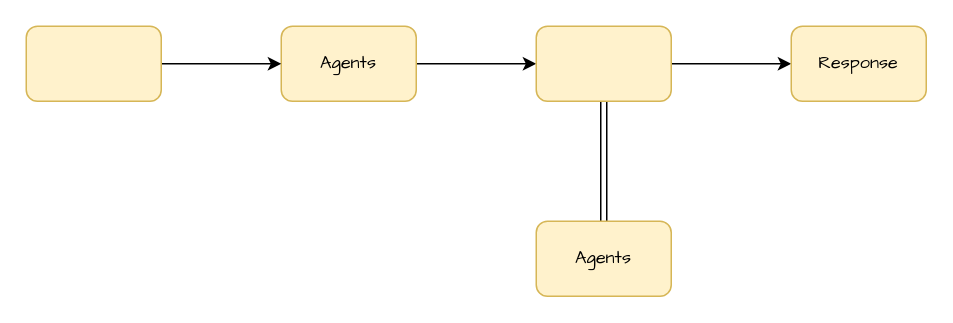
The diagram is 953 pixels wide and 323 high, and some of its shapes have lost their labels. The shapes that lost their labels are listed below. From the top down, each one's centre as x and y in pixels, then its label:
the point at 93,63: Query
the point at 603,63: RAG
